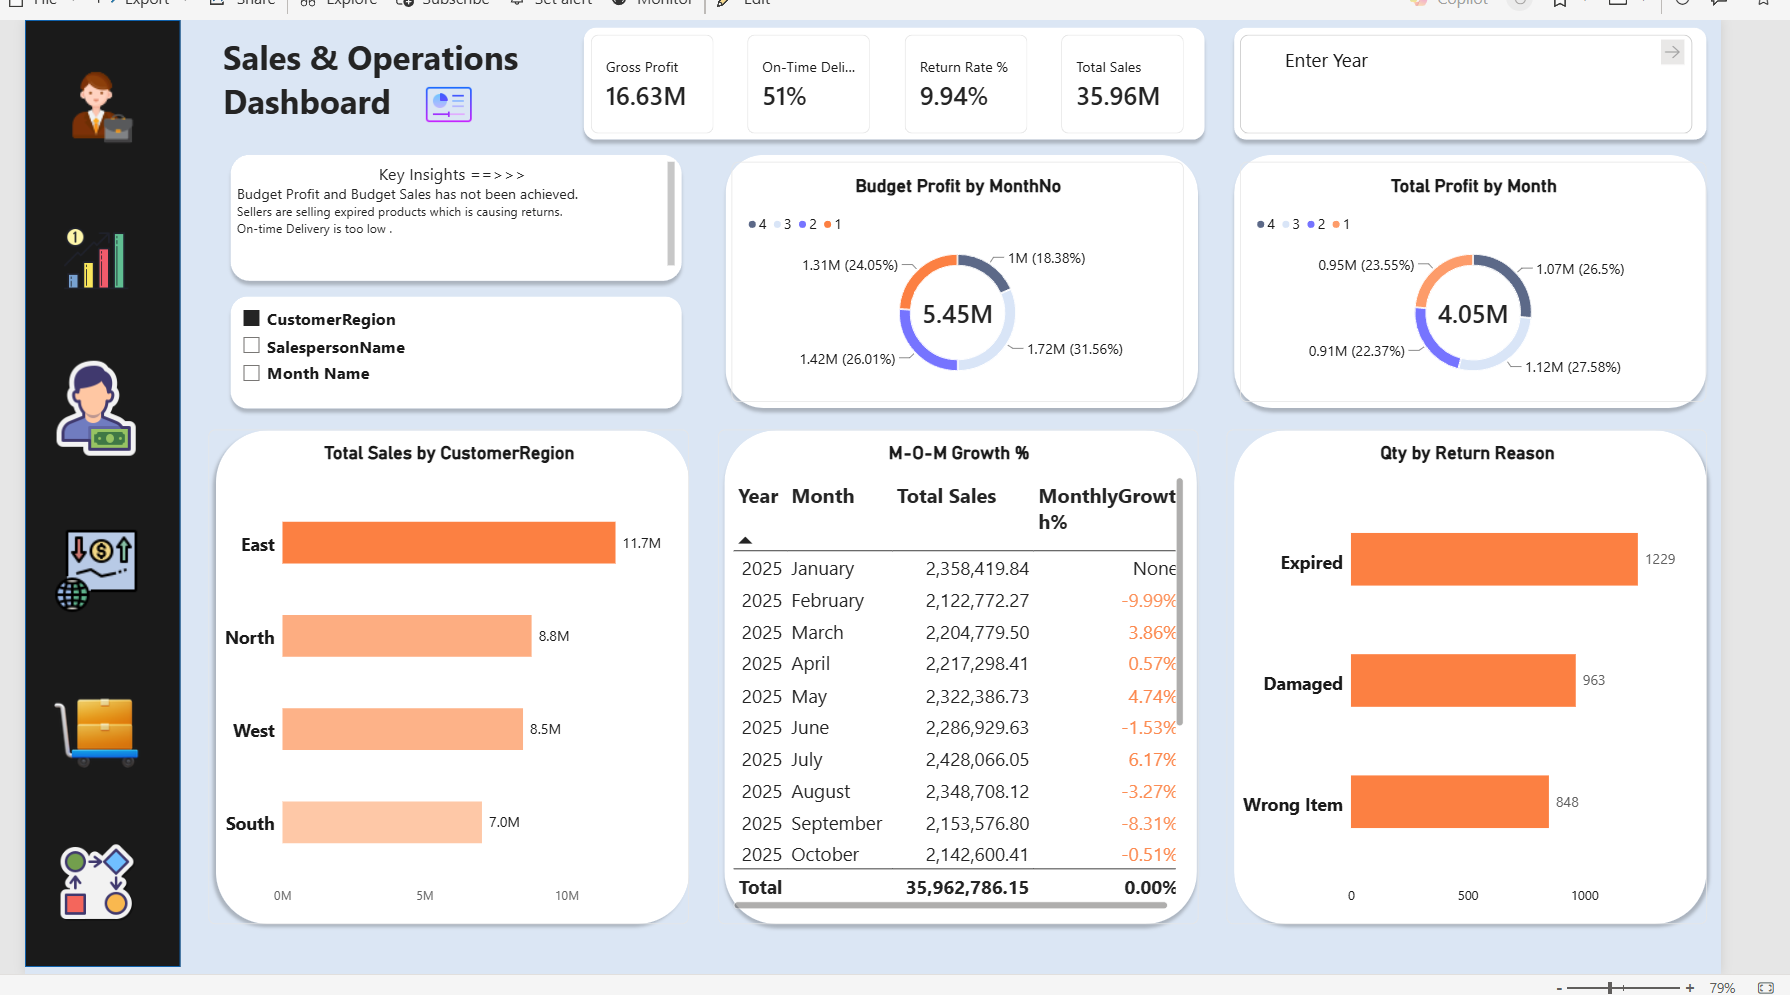

What the dashboard file says about the page in this screenshot:
{"tool":"powerbi","page":{"name":"Executive Overview","canvas":[1920,1080],"ordinal":0},"visuals":[{"type":"shape","box":[1360,0,552,144],"z":0},{"type":"shape","box":[1360,144,552,304],"z":1000},{"type":"shape","box":[784,144,552,304],"z":2000},{"type":"shape","box":[208,456,553,576],"z":3000,"group":"g1"},{"type":"group","id":"g1","title":"Bottom white","box":[208,456,1704,576],"z":3000},{"type":"shape","box":[224,304,528,144],"z":4000},{"type":"shape","box":[1360,456,552,576],"z":4000,"group":"g1"},{"type":"shape","box":[0,0,176,1072],"z":5000},{"type":"shape","box":[784,456,552,576],"z":5000,"group":"g1"},{"type":"barChart","fields":{"Category":["DimCustomer.Region"],"Y":["_Measure.Total Sales"]},"box":[208,464,544,560],"z":6000},{"type":"slicer","fields":{"Values":["Filter Parameter.Filter Parameter"]},"box":[240,320,496,112],"z":7000},{"type":"textbox","box":[224,16,368,112],"z":8000},{"type":"shape","box":[624,0,720,144],"z":9000},{"type":"image","box":[432,64,96,64],"z":10000},{"type":"textSlicer","fields":{"Values":["Dates.Year"]},"box":[1376,16,512,112],"z":11000},{"type":"tableEx","title":"M-O-M Growth %","fields":{"Values":["Dates.Date.Variation.Date Hierarchy.Year","Dates.Date.Variation.Date Hierarchy.Month","_Measure.Total Sales","_Measure.MonthlyGrowth{Sales}"]},"box":[784,464,544,560],"z":12000},{"type":"cardVisual","fields":{"Data":["_Measure.Total Sales"]},"box":[1172.8,16,139.2,112],"z":13000,"group":"g2"},{"type":"clusteredBarChart","title":"Qty by Return Reason","fields":{"Category":["Fact_Returns.ReturnReason"],"Y":["Sum(Fact_Returns.ReturnQty)"]},"box":[1360,464,544,560],"z":13000},{"type":"cardVisual","fields":{"Data":["_Measure.Gross Profit"]},"box":[640,16,139.2,112],"z":14000,"group":"g2"},{"type":"donutChart","fields":{"Category":["month.Month"],"Y":["_Measure.Total Profit"]},"box":[1376,160,528,272],"z":14000},{"type":"cardVisual","fields":{"Data":["_Measure.On-Time Delivery %"]},"box":[817.6,16,139.2,112],"z":15000,"group":"g2"},{"type":"donutChart","fields":{"Category":["Fact_Budget.MonthNo"],"Y":["Sum(Fact_Budget.BudgetProfit)"]},"box":[800,160,512,272],"z":15000},{"type":"group","id":"g2","title":"Group 1","box":[640,16,672,112],"z":16000},{"type":"cardVisual","fields":{"Data":["_Measure.Return Rate %"]},"box":[995.2,16,139.2,112],"z":16000,"group":"g2"},{"type":"shape","box":[224,144,528,160],"z":17000},{"type":"textbox","box":[240,160,496,128],"z":18000},{"type":"image","box":[16,224,128,96],"z":19000},{"type":"image","box":[16,576,128,96],"z":20000},{"type":"image","box":[16,384,128,112],"z":21000},{"type":"image","box":[16,48,128,96],"z":22000},{"type":"image","box":[16,752,128,112],"z":23000},{"type":"image","box":[16,928,128,96],"z":24000}]}

Visuals, with their boxes on the page's 1920x1080 design canvas (x1, y1, x2, y2). These are canvas units, not pixel positions in the 1790x995 screenshot, which may show the page scaled, cropped or inside an application window:
shape: {"left": 1360, "top": 0, "right": 1912, "bottom": 144}
shape: {"left": 1360, "top": 144, "right": 1912, "bottom": 448}
shape: {"left": 784, "top": 144, "right": 1336, "bottom": 448}
shape: {"left": 208, "top": 456, "right": 761, "bottom": 1032}
"Bottom white" group: {"left": 208, "top": 456, "right": 1912, "bottom": 1032}
shape: {"left": 224, "top": 304, "right": 752, "bottom": 448}
shape: {"left": 1360, "top": 456, "right": 1912, "bottom": 1032}
shape: {"left": 0, "top": 0, "right": 176, "bottom": 1072}
shape: {"left": 784, "top": 456, "right": 1336, "bottom": 1032}
barChart - DimCustomer.Region x _Measure.Total Sales: {"left": 208, "top": 464, "right": 752, "bottom": 1024}
slicer - Filter Parameter.Filter Parameter: {"left": 240, "top": 320, "right": 736, "bottom": 432}
textbox: {"left": 224, "top": 16, "right": 592, "bottom": 128}
shape: {"left": 624, "top": 0, "right": 1344, "bottom": 144}
image: {"left": 432, "top": 64, "right": 528, "bottom": 128}
textSlicer - Dates.Year: {"left": 1376, "top": 16, "right": 1888, "bottom": 128}
"M-O-M Growth %" tableEx: {"left": 784, "top": 464, "right": 1328, "bottom": 1024}
cardVisual - _Measure.Total Sales: {"left": 1173, "top": 16, "right": 1312, "bottom": 128}
"Qty by Return Reason" clusteredBarChart: {"left": 1360, "top": 464, "right": 1904, "bottom": 1024}
cardVisual - _Measure.Gross Profit: {"left": 640, "top": 16, "right": 779, "bottom": 128}
donutChart - month.Month x _Measure.Total Profit: {"left": 1376, "top": 160, "right": 1904, "bottom": 432}
cardVisual - _Measure.On-Time Delivery %: {"left": 818, "top": 16, "right": 957, "bottom": 128}
donutChart - Fact_Budget.MonthNo x Sum(Fact_Budget.BudgetProfit): {"left": 800, "top": 160, "right": 1312, "bottom": 432}
"Group 1" group: {"left": 640, "top": 16, "right": 1312, "bottom": 128}
cardVisual - _Measure.Return Rate %: {"left": 995, "top": 16, "right": 1134, "bottom": 128}
shape: {"left": 224, "top": 144, "right": 752, "bottom": 304}
textbox: {"left": 240, "top": 160, "right": 736, "bottom": 288}
image: {"left": 16, "top": 224, "right": 144, "bottom": 320}
image: {"left": 16, "top": 576, "right": 144, "bottom": 672}
image: {"left": 16, "top": 384, "right": 144, "bottom": 496}
image: {"left": 16, "top": 48, "right": 144, "bottom": 144}
image: {"left": 16, "top": 752, "right": 144, "bottom": 864}
image: {"left": 16, "top": 928, "right": 144, "bottom": 1024}
